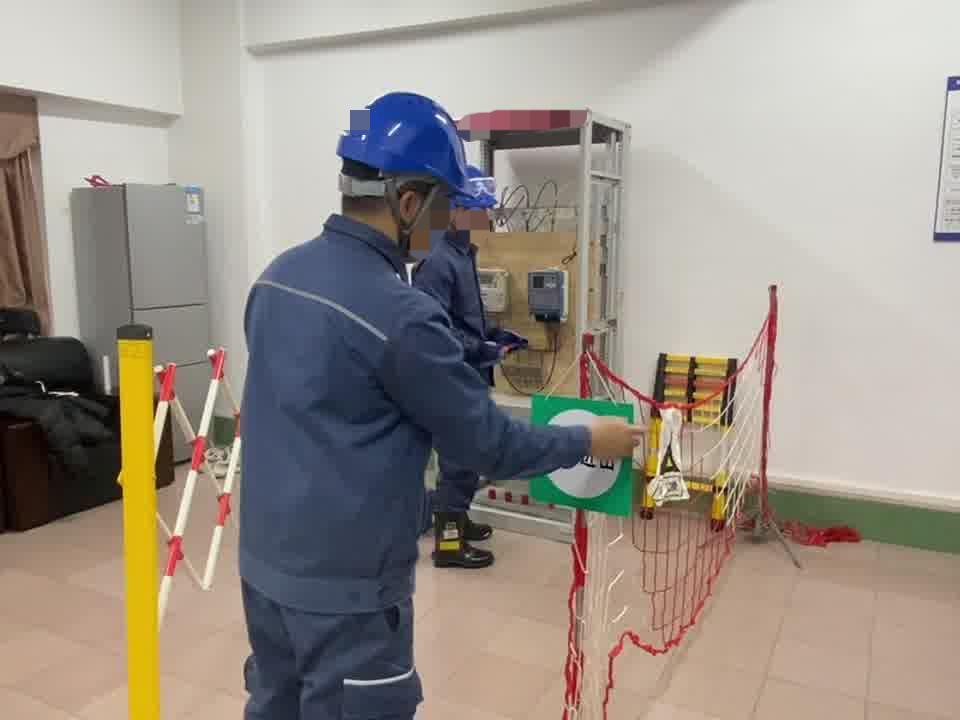halt: (333, 93, 497, 229)
inear: (386, 177, 437, 248)
